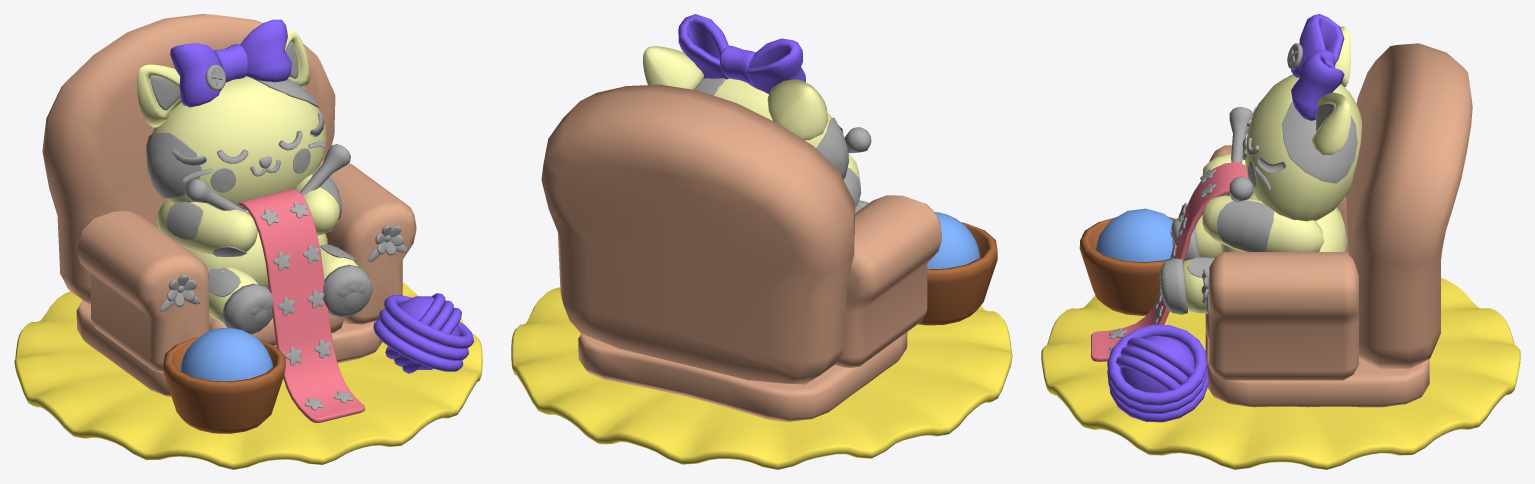
Rendered from CatKnitting.fbx.
3 views of the same model, side by side, from view 1: azimuth 30°, elevation 25°; view 2: azimuth 150°, elevation 25°; view 3: azimuth 270°, elevation 25° (orthographic). The views are drawn at different scales.
Visible parts, largest first — view 1: S_CatKnitting, M_CatKnitting, D_Cat_83, D_CatKnitting_16, D_CatKnitting_15, D_CatKnitting_6, D_CatKnitting_30, D_CatKnitting_20, D_CatKnitting_12; view 2: S_CatKnitting, M_CatKnitting; view 3: S_CatKnitting, M_CatKnitting, D_CatKnitting_14, D_Cat_86, D_Cat_85, D_CatKnitting_12, D_CatKnitting_13.
Part boxes in pixels (bbox=[...]): S_CatKnitting: bbox=[14, 14, 482, 469]; M_CatKnitting: bbox=[76, 210, 460, 396]; D_Cat_83: bbox=[167, 201, 203, 239]; D_CatKnitting_16: bbox=[153, 153, 201, 198]; D_CatKnitting_15: bbox=[151, 132, 196, 167]; D_CatKnitting_6: bbox=[210, 148, 310, 192]; D_CatKnitting_30: bbox=[208, 267, 240, 296]; D_CatKnitting_20: bbox=[151, 76, 180, 110]; D_CatKnitting_12: bbox=[246, 76, 307, 101]; S_CatKnitting: bbox=[511, 14, 1012, 469]; M_CatKnitting: bbox=[578, 212, 980, 421]; S_CatKnitting: bbox=[1041, 14, 1520, 469]; M_CatKnitting: bbox=[1095, 193, 1429, 407]; D_CatKnitting_14: bbox=[1283, 129, 1336, 181]; D_Cat_86: bbox=[1217, 200, 1258, 250]; D_Cat_85: bbox=[1243, 202, 1273, 251]; D_CatKnitting_12: bbox=[1282, 101, 1315, 139]; D_CatKnitting_13: bbox=[1323, 144, 1354, 183].
Bounding box in the file's own units: 607 × 472 × 607.
